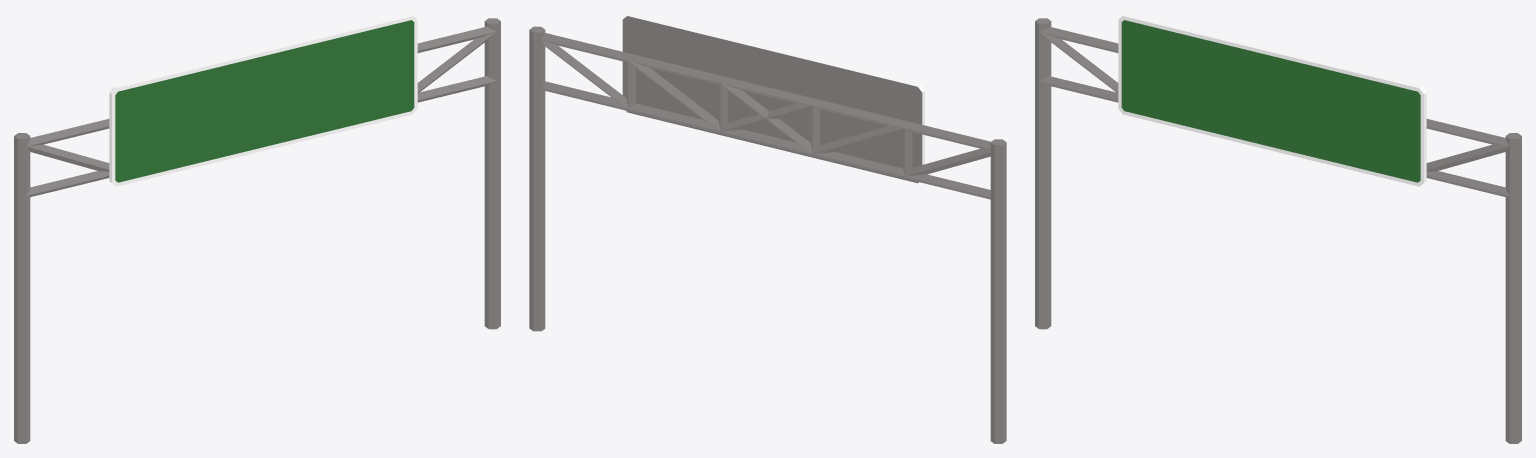
File: road-sign-green.glb
3 views of the same model, side by side, from view 1: azimuth 30°, elevation 25°; view 2: azimuth 150°, elevation 25°; view 3: azimuth 330°, elevation 25° (orthographic). The views are drawn at different scales.
Visible parts, largest first — view 1: road-sign-green; view 2: road-sign-green; view 3: road-sign-green.
Boxes of the visible parts, x1,y1,x2,y2 form: road-sign-green: (14,14,500,443); road-sign-green: (529,14,1006,443); road-sign-green: (1035,14,1521,443).
Bounding box in the file's own units: 10.26 × 6.84 × 0.422.
Materials: 1 (1 with a texture image).
